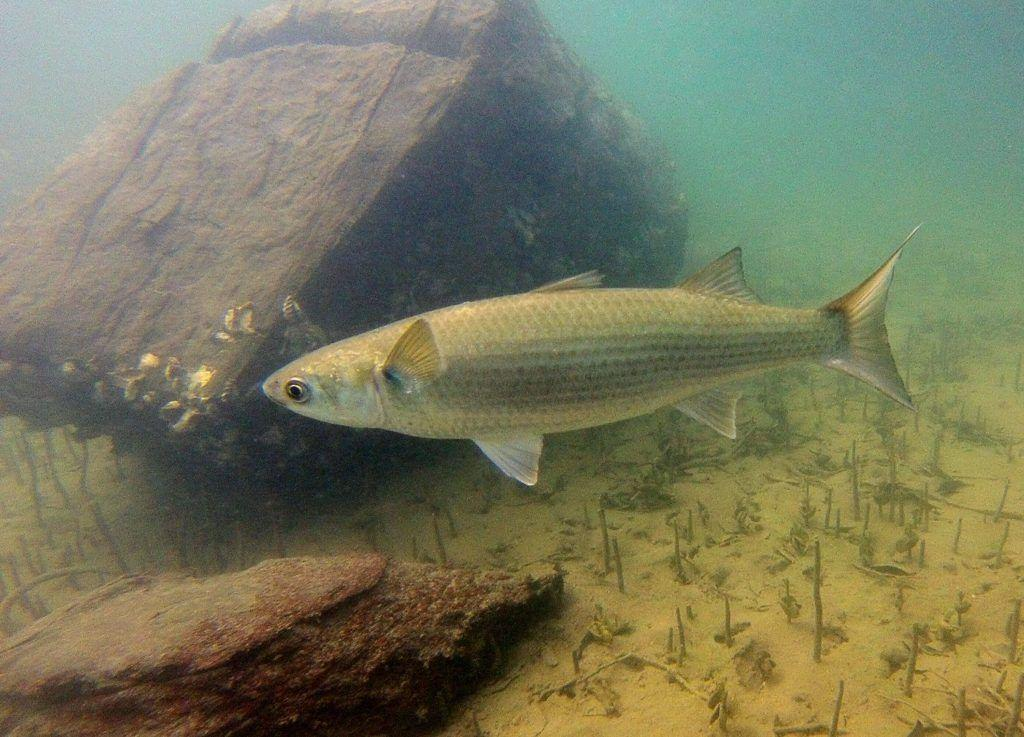Mullet: (259, 222, 934, 486)
